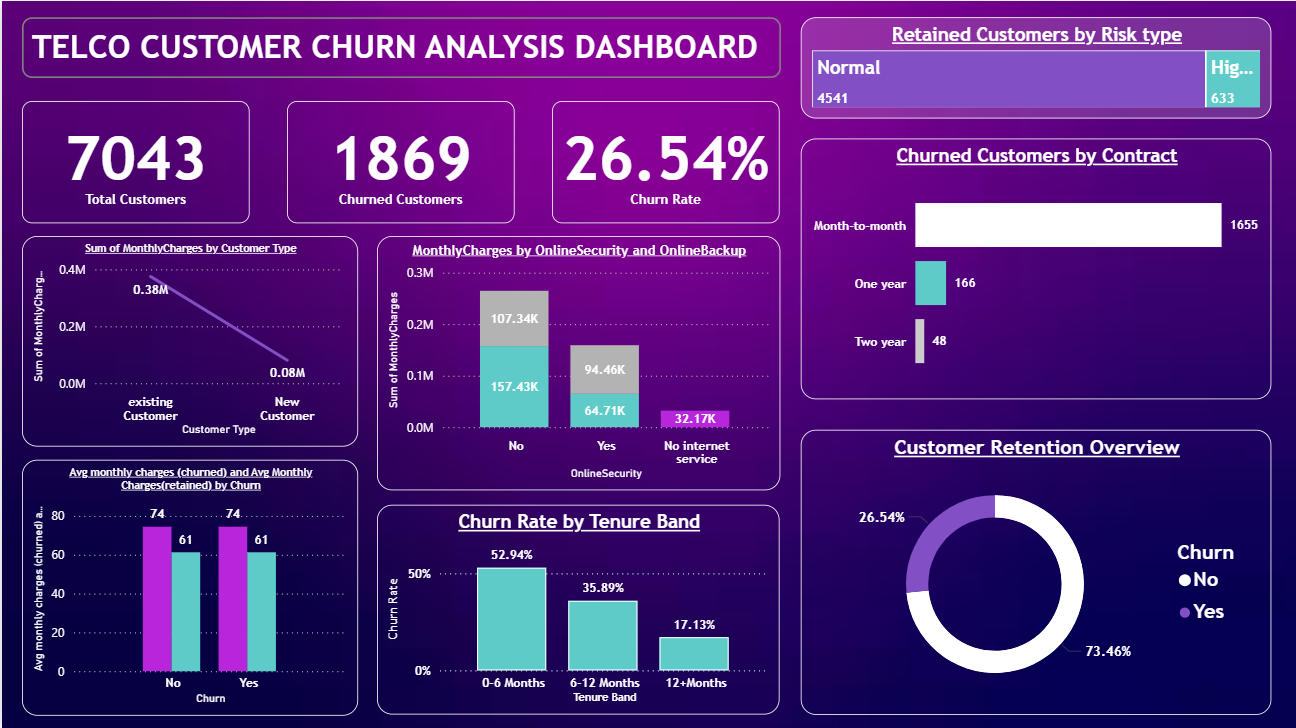

This screenshot's page, from the dashboard's own definition file:
{"tool":"powerbi","page":{"name":"Page 1","canvas":[1280,720],"ordinal":0},"visuals":[{"type":"textbox","box":[19.2,16.5,749.2,60.4],"z":0},{"type":"card","fields":{"Values":["Telco Customer Churn.Total Customers"]},"box":[19.2,98.8,225,120.8],"z":1000},{"type":"card","fields":{"Values":["Telco Customer Churn.Churned Customers"]},"box":[281.3,98.8,225,120.8],"z":2000},{"type":"card","fields":{"Values":["Telco Customer Churn.Churn Rate"]},"box":[543.4,98.8,225,120.8],"z":3000},{"type":"treemap","fields":{"Values":["Telco Customer Churn.Retained Customers"],"Group":["Telco Customer Churn.Risk type"]},"box":[789,16.5,465.2,100.2],"z":4000},{"type":"donutChart","title":"Customer Retention Overview","fields":{"Y":["Telco Customer Churn.Total Customers"],"Category":["Telco Customer Churn.Churn"]},"box":[789,424,465.2,281.3],"z":5000},{"type":"barChart","fields":{"Category":["Telco Customer Churn.Contract"],"Y":["Telco Customer Churn.Churned Customers"]},"box":[789,135.8,465.2,258],"z":5001},{"type":"columnChart","title":"MonthlyCharges by OnlineSecurity and OnlineBackup","fields":{"Category":["Telco Customer Churn.OnlineSecurity"],"Y":["Sum(Telco Customer Churn.MonthlyCharges)"],"Series":["Telco Customer Churn.OnlineBackup"]},"box":[370.2,232.3,398.2,251.5],"z":5002},{"type":"columnChart","fields":{"Y":["Telco Customer Churn.Churn Rate"],"Category":["Telco Customer Churn.Tenure Band"]},"box":[370.5,498.1,397.9,207.2],"z":5003},{"type":"clusteredColumnChart","fields":{"Y":["Telco Customer Churn.Avg monthly charges (churned)","Telco Customer Churn.Avg Monthly Charges(retained)"],"Category":["Telco Customer Churn.Churn"]},"box":[19.2,452.8,332.1,252.5],"z":5004},{"type":"lineChart","fields":{"Category":["Telco Customer Churn.Customer Type"],"Y":["Sum(Telco Customer Churn.MonthlyCharges)"]},"box":[19.1,232.3,331.9,208.1],"z":5005}]}

Visuals, with their boxes in screenshot pixels (x1, y1, x2, y2), scaled from the page's 1280x720 canvas onto the 1296x728 screenshot:
textbox: <box>19,17,778,78</box>
card - Telco Customer Churn.Total Customers: <box>19,100,247,222</box>
card - Telco Customer Churn.Churned Customers: <box>285,100,513,222</box>
card - Telco Customer Churn.Churn Rate: <box>550,100,778,222</box>
treemap - Telco Customer Churn.Retained Customers x Telco Customer Churn.Risk type: <box>799,17,1270,118</box>
"Customer Retention Overview" donutChart: <box>799,429,1270,713</box>
barChart - Telco Customer Churn.Contract x Telco Customer Churn.Churned Customers: <box>799,137,1270,398</box>
"MonthlyCharges by OnlineSecurity and OnlineBackup" columnChart: <box>375,235,778,489</box>
columnChart - Telco Customer Churn.Churn Rate x Telco Customer Churn.Tenure Band: <box>375,504,778,713</box>
clusteredColumnChart - Telco Customer Churn.Avg monthly charges (churned) x Telco Customer Churn.Avg Monthly Charges(retained): <box>19,458,356,713</box>
lineChart - Telco Customer Churn.Customer Type x Sum(Telco Customer Churn.MonthlyCharges): <box>19,235,355,445</box>
